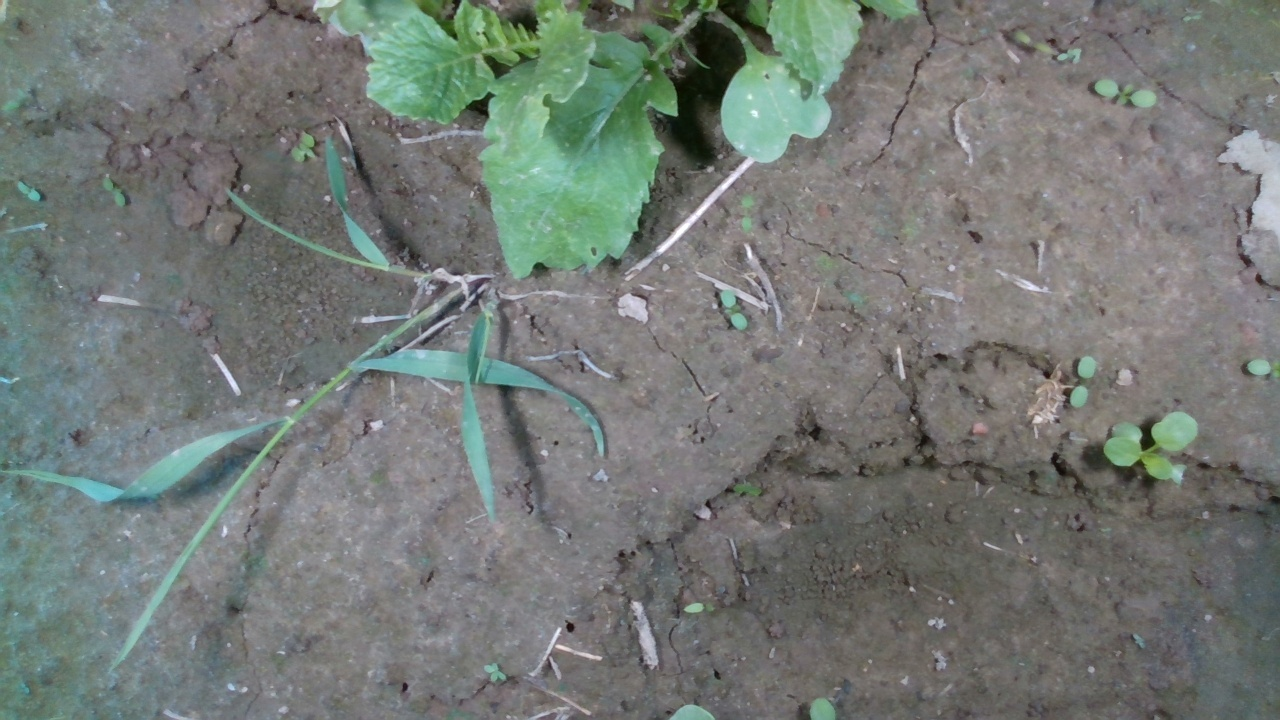weed: (1093, 75, 1159, 111), (1068, 352, 1097, 409), (717, 287, 748, 333), (100, 175, 126, 208), (15, 180, 42, 203), (482, 659, 507, 683)
